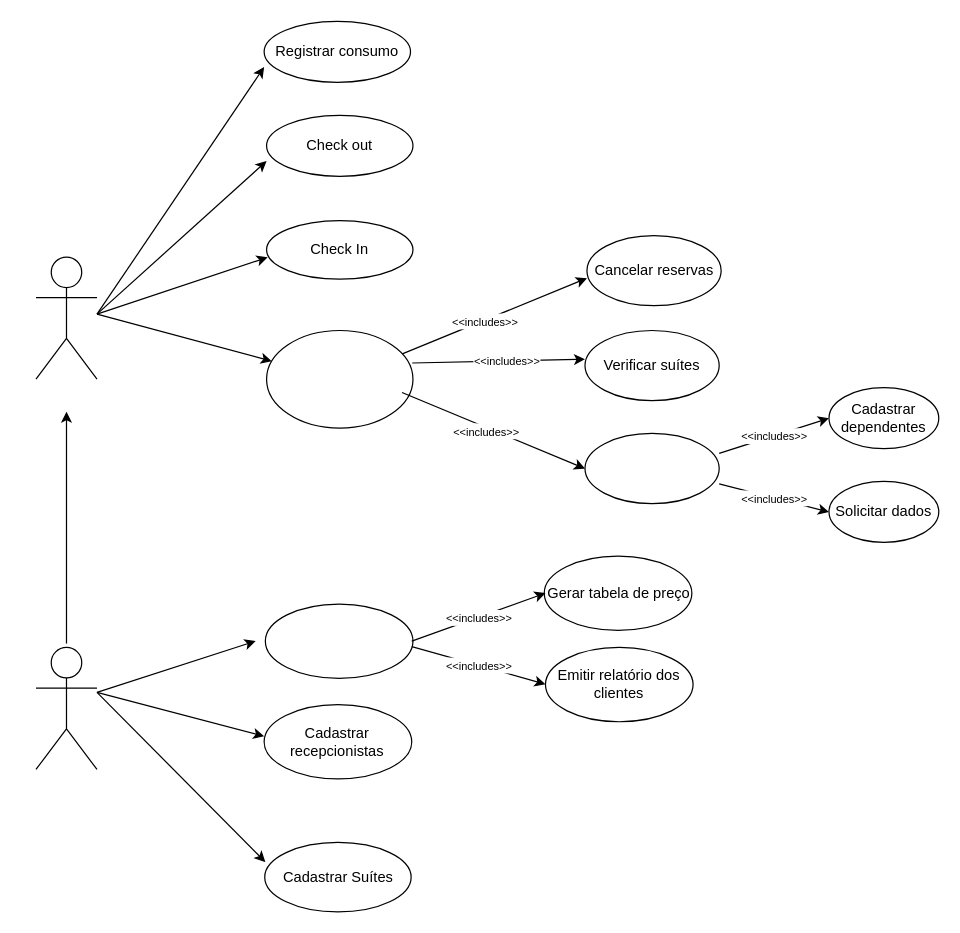
Image size: 960x933. Some labels were removed from this diagram. The centre of each missing label's shape, as x and y in pixels:
"Cadastrar cliente" belongs at [651,468].
"Gerar extrato das reservas" belongs at [338,640].
"Gerente" belongs at [66,707].
"Recepcionista" belongs at [66,317].
"Registrar reservas" belongs at [339,378].
